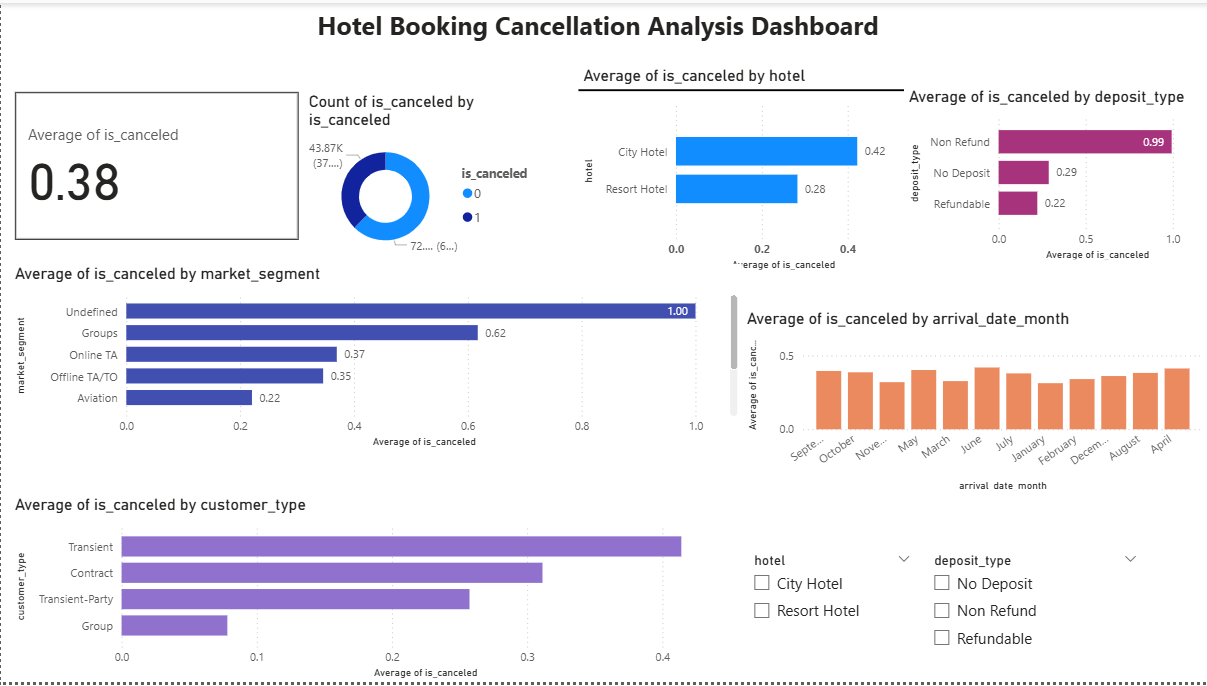

The dashboard page shown, as its layout file describes it:
{"tool":"powerbi","page":{"name":"Page 1","canvas":[1280,720],"ordinal":0},"visuals":[{"type":"cardVisual","fields":{"Data":["Avg(hotel_bookings_cleaned.is_canceled)"]},"box":[9.5,89.1,311.8,167],"z":0},{"type":"clusteredBarChart","fields":{"Category":["hotel_bookings_cleaned.hotel"],"Y":["Avg(hotel_bookings_cleaned.is_canceled)"]},"box":[612.4,66.8,345.2,221.1],"z":1000},{"type":"clusteredBarChart","fields":{"Category":["hotel_bookings_cleaned.deposit_type"],"Y":["Avg(hotel_bookings_cleaned.is_canceled)"]},"box":[957.5,89.1,322.9,187.7],"z":2000},{"type":"clusteredBarChart","fields":{"Category":["hotel_bookings_cleaned.market_segment"],"Y":["Avg(hotel_bookings_cleaned.is_canceled)"]},"box":[9.5,276.8,776.2,198.8],"z":3000},{"type":"clusteredColumnChart","fields":{"Category":["hotel_bookings_cleaned.arrival_date_month"],"Y":["Avg(hotel_bookings_cleaned.is_canceled)"]},"box":[785.8,324.5,493.1,197.2],"z":4000},{"type":"donutChart","fields":{"Category":["hotel_bookings_cleaned.is_canceled"],"Y":["CountNonNull(hotel_bookings_cleaned.is_canceled)"]},"box":[321.3,93.8,256.1,182.9],"z":5000},{"type":"clusteredBarChart","fields":{"Y":["Avg(hotel_bookings_cleaned.is_canceled)"],"Category":["hotel_bookings_cleaned.customer_type"]},"box":[9.5,521.7,776.2,198.8],"z":6000},{"type":"slicer","fields":{"Values":["hotel_bookings_cleaned.hotel"]},"box":[785.8,577.4,190.9,119.3],"z":7000},{"type":"slicer","fields":{"Values":["hotel_bookings_cleaned.deposit_type"]},"box":[976.6,577.4,240.2,119.3],"z":8000},{"type":"textbox","box":[254.5,0,757.1,66.8],"z":9000}]}

Visuals, with their boxes in screenshot pixels (x1, y1, x2, y2), scaled from the page's 1280x720 canvas onto the 1207x686 screenshot:
cardVisual - Avg(hotel_bookings_cleaned.is_canceled): BBox(9, 85, 303, 244)
clusteredBarChart - hotel_bookings_cleaned.hotel x Avg(hotel_bookings_cleaned.is_canceled): BBox(577, 64, 903, 274)
clusteredBarChart - hotel_bookings_cleaned.deposit_type x Avg(hotel_bookings_cleaned.is_canceled): BBox(903, 85, 1206, 264)
clusteredBarChart - hotel_bookings_cleaned.market_segment x Avg(hotel_bookings_cleaned.is_canceled): BBox(9, 264, 741, 453)
clusteredColumnChart - hotel_bookings_cleaned.arrival_date_month x Avg(hotel_bookings_cleaned.is_canceled): BBox(741, 309, 1206, 497)
donutChart - hotel_bookings_cleaned.is_canceled x CountNonNull(hotel_bookings_cleaned.is_canceled): BBox(303, 89, 544, 264)
clusteredBarChart - Avg(hotel_bookings_cleaned.is_canceled) x hotel_bookings_cleaned.customer_type: BBox(9, 497, 741, 685)
slicer - hotel_bookings_cleaned.hotel: BBox(741, 550, 921, 664)
slicer - hotel_bookings_cleaned.deposit_type: BBox(921, 550, 1147, 664)
textbox: BBox(240, 0, 954, 64)
